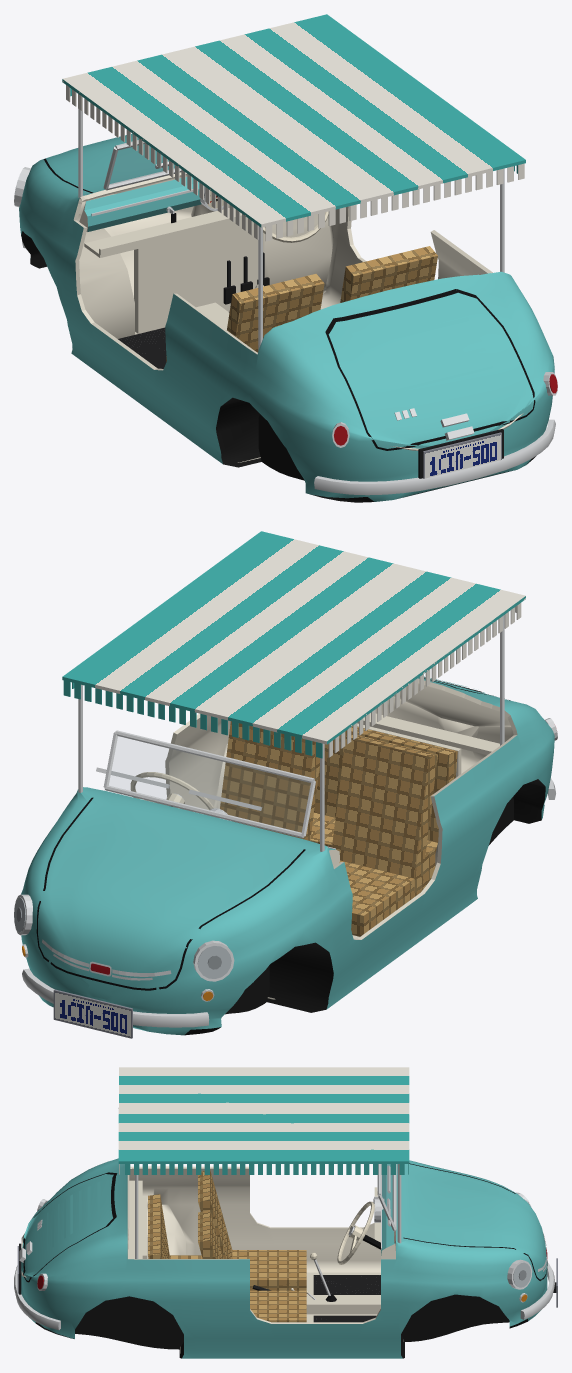
File: jolly.glb
The picture shows the model from 3 angles, top to bottom: view 1: azimuth 30°, elevation 25°; view 2: azimuth 150°, elevation 25°; view 3: azimuth 270°, elevation 25°; orthographic projection. The views are drawn at different scales.
Parts seen in each view (by area): view 1: Body, Interior, Glass; view 2: Body, Interior, Glass, Lights_Head, SteeringWheel; view 3: Body, Interior, SteeringWheel, Glass.
Part boxes in pixels (x1=…): Body: x1=14, y1=14, x2=557, y2=502; Interior: x1=79, y1=177, x2=437, y2=368; Glass: x1=110, y1=147, x2=174, y2=184; Body: x1=14, y1=531, x2=557, y2=1038; Interior: x1=171, y1=713, x2=499, y2=938; Glass: x1=109, y1=737, x2=310, y2=831; Lights_Head: x1=14, y1=897, x2=231, y2=978; SteeringWheel: x1=130, y1=772, x2=213, y2=811; Body: x1=14, y1=1067, x2=557, y2=1358; Interior: x1=128, y1=1164, x2=395, y2=1322; SteeringWheel: x1=337, y1=1201, x2=374, y2=1264; Glass: x1=382, y1=1164, x2=393, y2=1221.
Bounding box in the file's own units: 1.32 × 1.27 × 3.07.
Materials: 25 (6 with a texture image).
